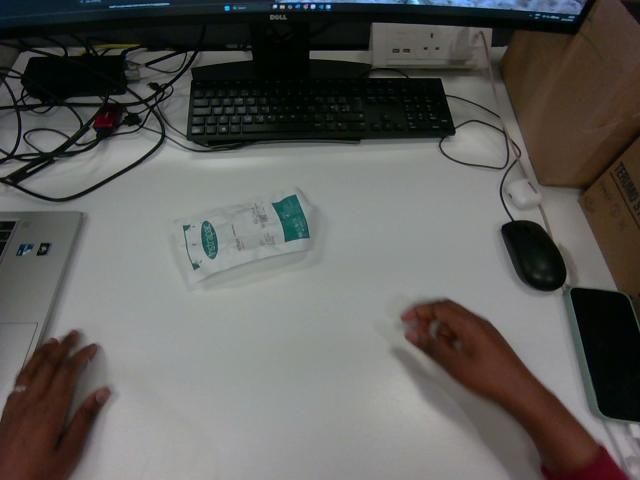gallipot: (172, 188, 312, 283)
